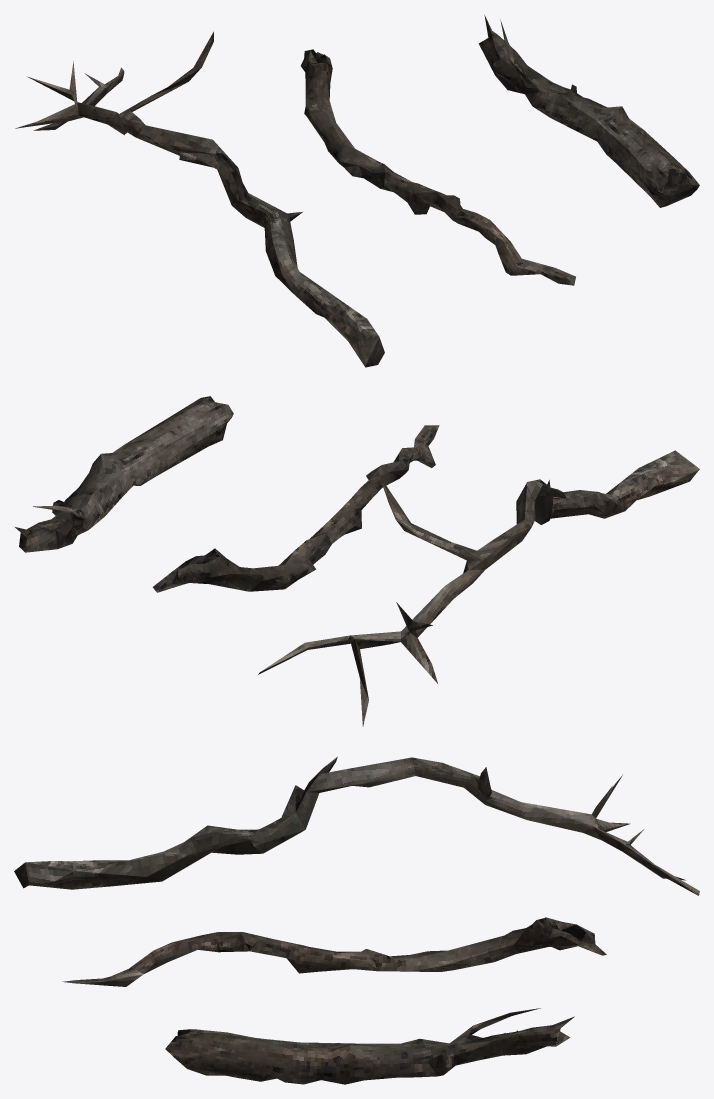
File: dry_branches_medium_01.glb
3 renders of one model, top to bottom at view 1: azimuth 30°, elevation 25°; view 2: azimuth 150°, elevation 25°; view 3: azimuth 270°, elevation 25°, orthographic. The views are drawn at different scales.
Parts seen in each view (by area): view 1: dry_branches_medium_01_a, dry_branches_medium_01_c, dry_branches_medium_01_b; view 2: dry_branches_medium_01_a, dry_branches_medium_01_c, dry_branches_medium_01_b; view 3: dry_branches_medium_01_a, dry_branches_medium_01_c, dry_branches_medium_01_b.
Part boxes in pixels (x1,y1,x2,y2): dry_branches_medium_01_a: (15, 31, 384, 367); dry_branches_medium_01_c: (478, 15, 699, 207); dry_branches_medium_01_b: (301, 49, 575, 285); dry_branches_medium_01_a: (258, 450, 699, 726); dry_branches_medium_01_c: (15, 396, 233, 552); dry_branches_medium_01_b: (152, 425, 439, 592); dry_branches_medium_01_a: (14, 756, 699, 895); dry_branches_medium_01_c: (165, 1008, 574, 1084); dry_branches_medium_01_b: (62, 917, 606, 986).
Bounding box in the file's own units: 1.05 × 0.3224 × 1.3.
Materials: 1 (1 with a texture image).
